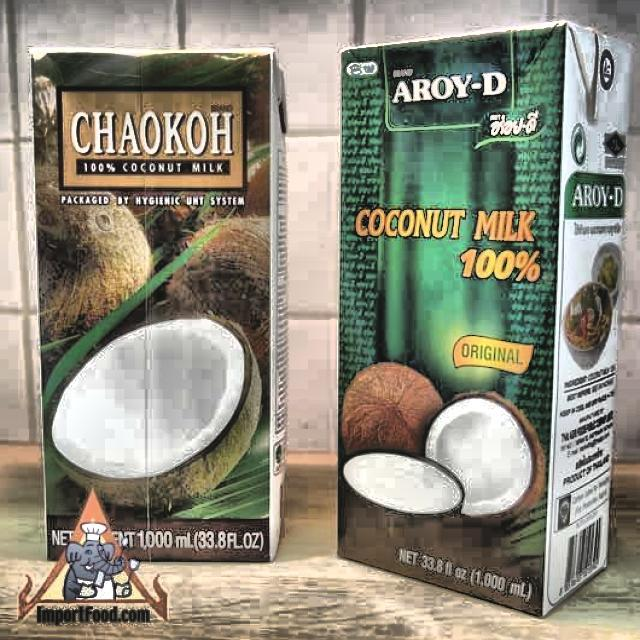cardboard: (334, 19, 633, 618), (29, 45, 289, 562)
